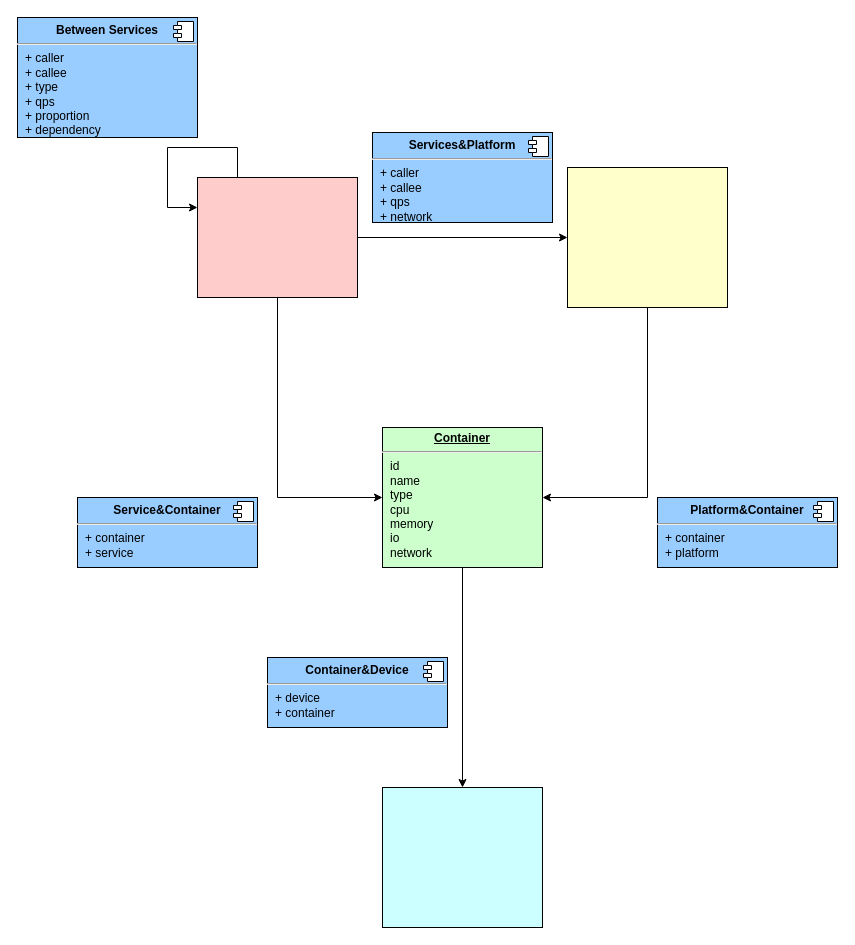
Some shapes in this 855 by 945 pixel diagram are drawn without their labels. The box of each missing label's shape, as (x1, y1, x2, y2) in pixels:
Physcal Mechine id name type cpu memory io network: (382, 786, 542, 928)
Platform id name type qps capacity owner sre: (566, 166, 728, 308)
Service id name type biz owner sre: (196, 176, 358, 298)
